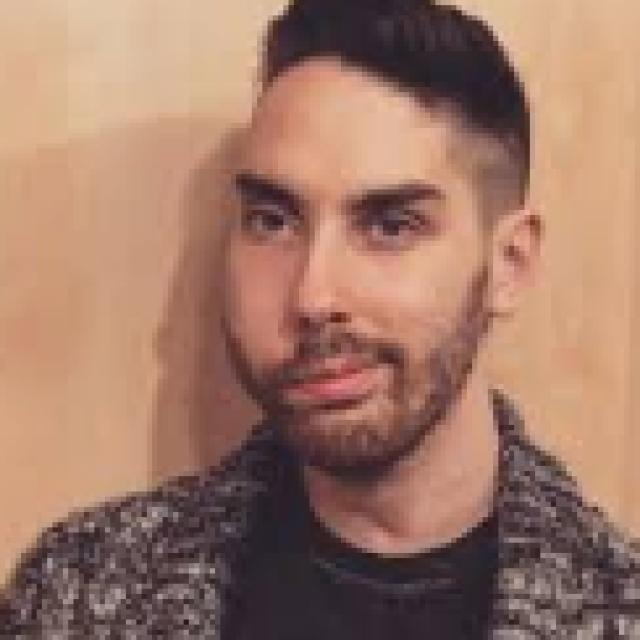stroke_face: (221, 45, 496, 464)
